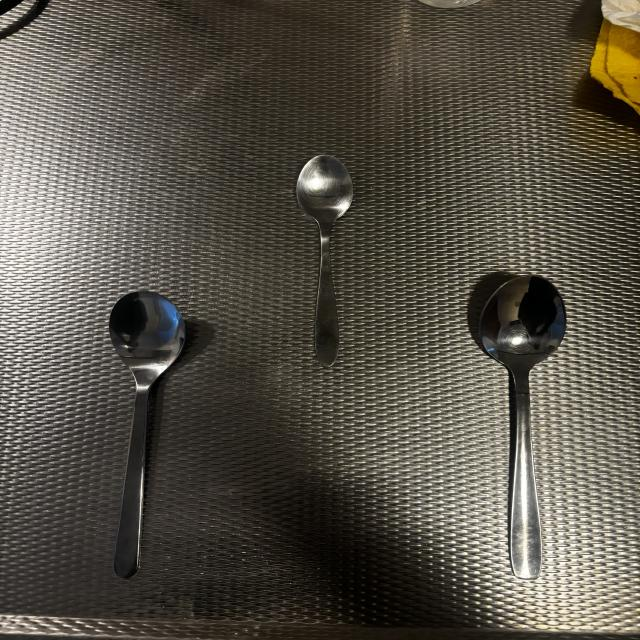spoon: (468, 273, 566, 584), (108, 292, 190, 582), (294, 154, 353, 370)
